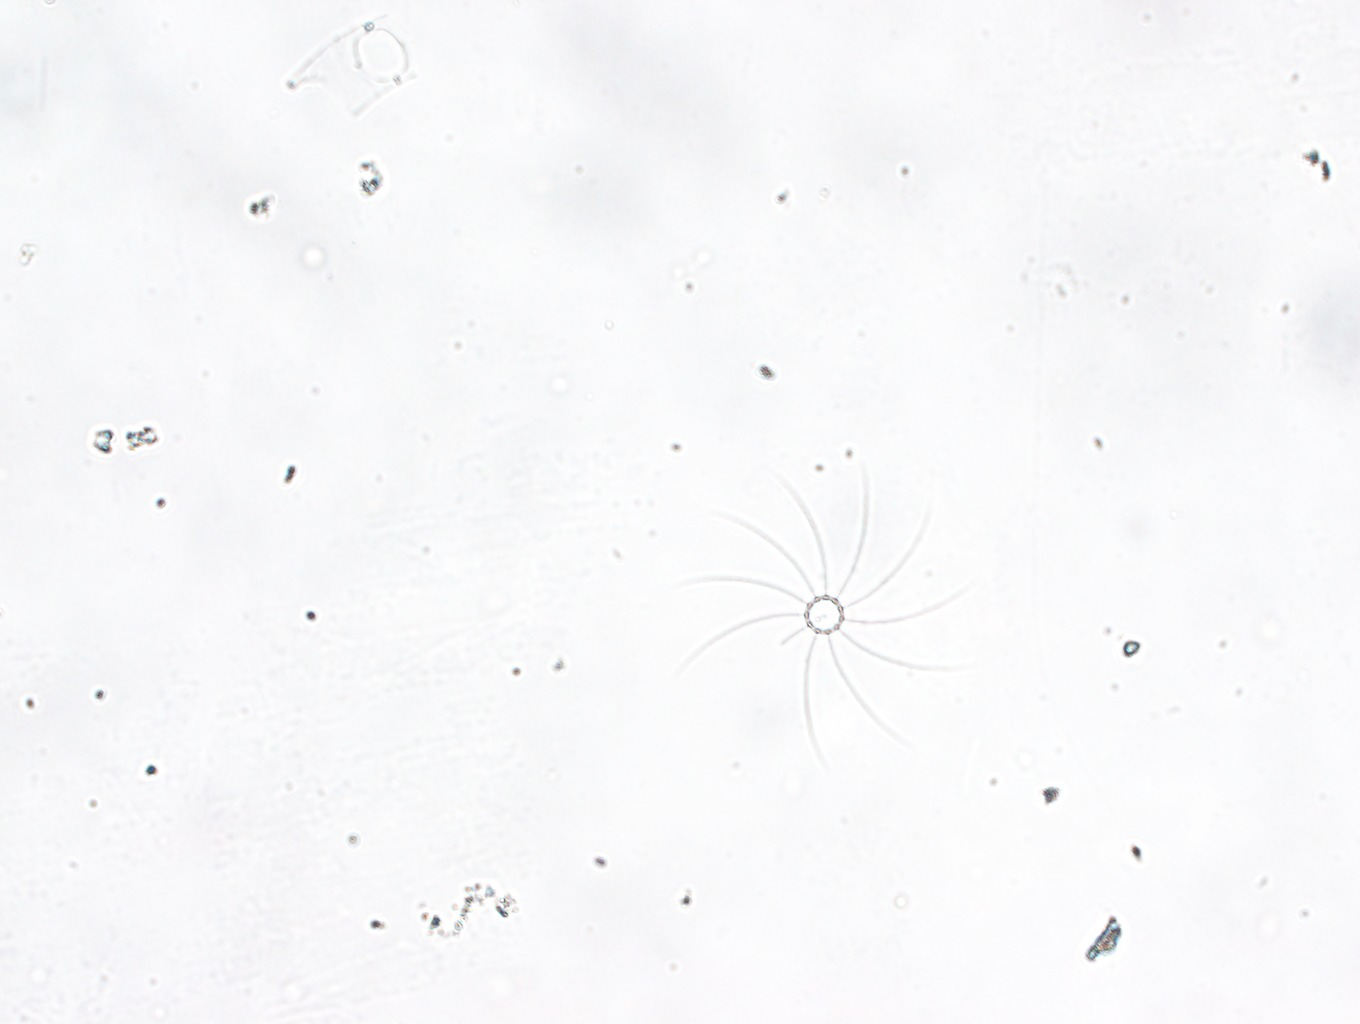bacteriastrum: (672, 466, 991, 772)
